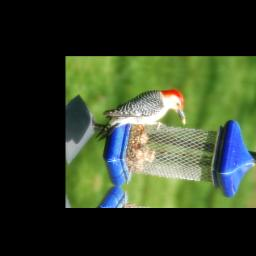Woodpecker: (90, 77, 193, 159)
